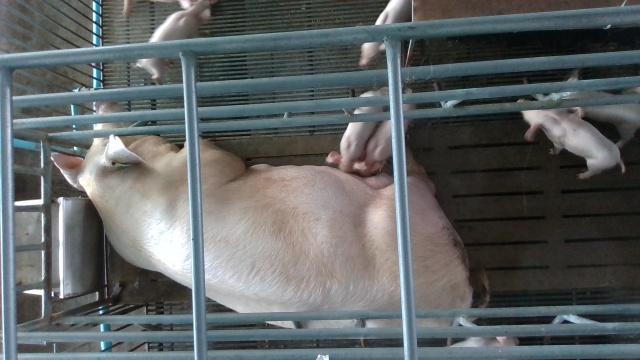piglet: (516, 100, 626, 180), (538, 90, 640, 149), (135, 1, 212, 78), (351, 90, 416, 177), (324, 88, 387, 172), (361, 0, 411, 66)
sow-sit: (52, 101, 490, 332)
